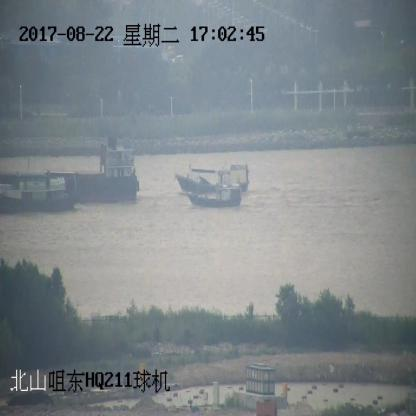Fishing Boat: (0, 172, 78, 212), (174, 161, 249, 196), (188, 183, 240, 209)
